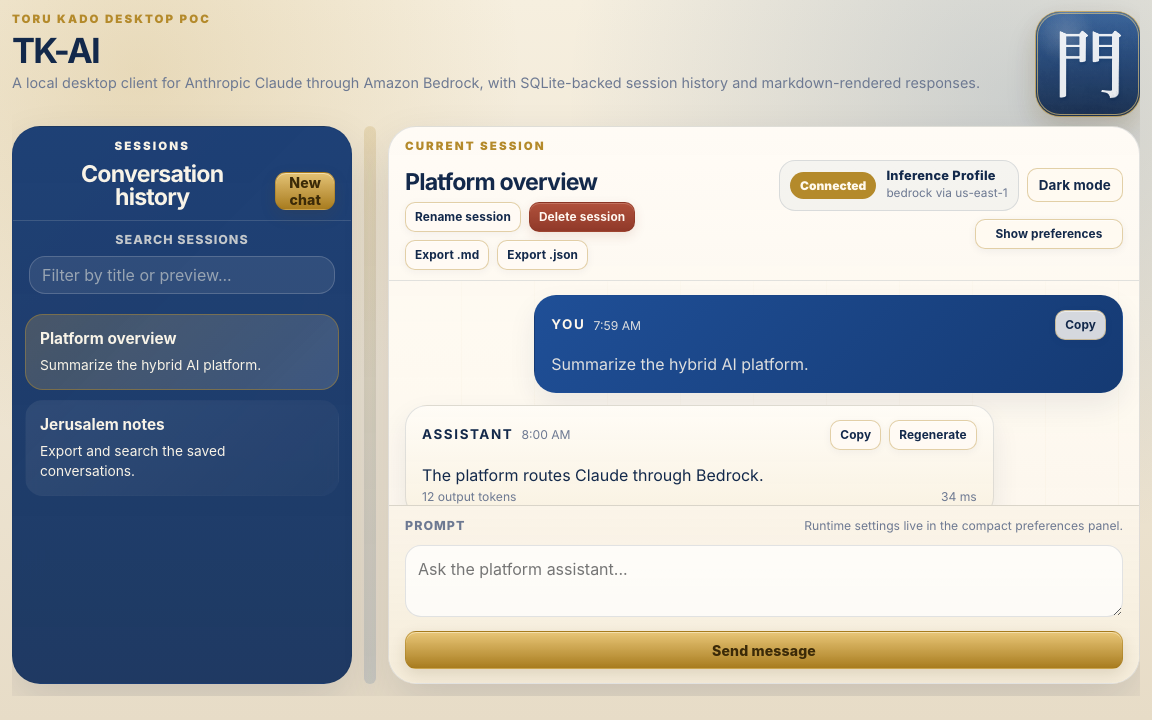
Test: App layout behavior › copies message content from the message action bar
Expected: the text "Connected" is shown, [790,172,876,199]
Click the button "Copy" in the row of "8:00 AM".
click(856, 435)  # box [830,420,881,450]
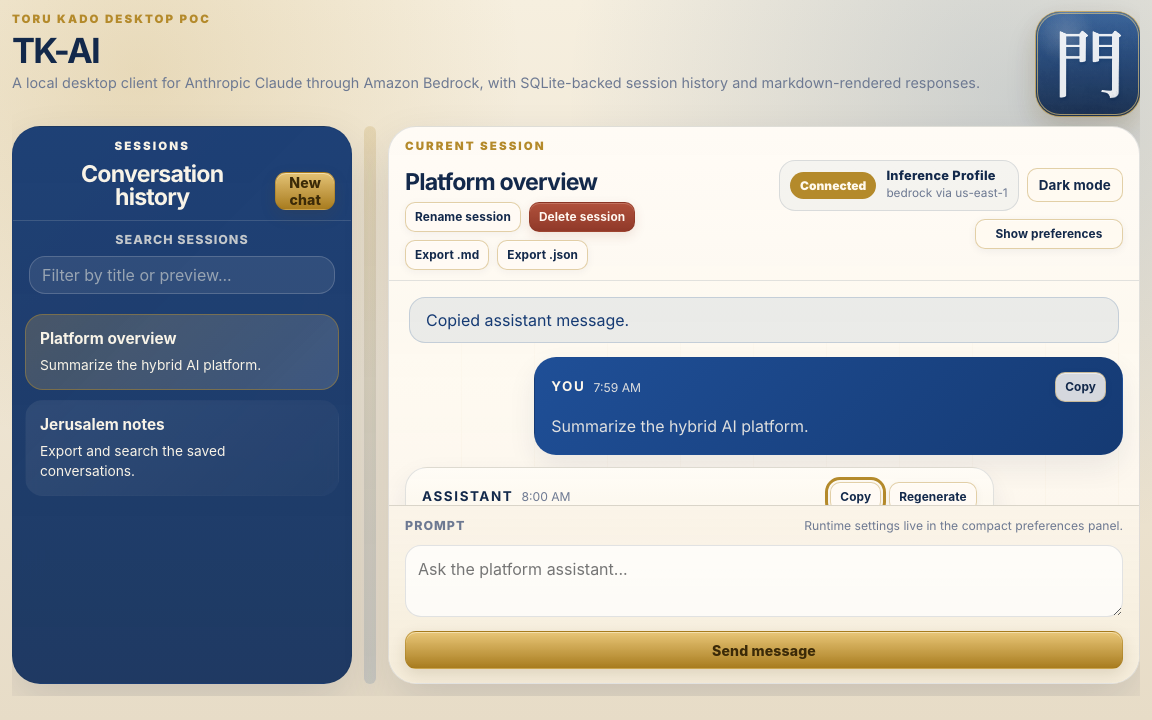
Now the text "Copied assistant message." is shown, box [409,297,1119,343]
